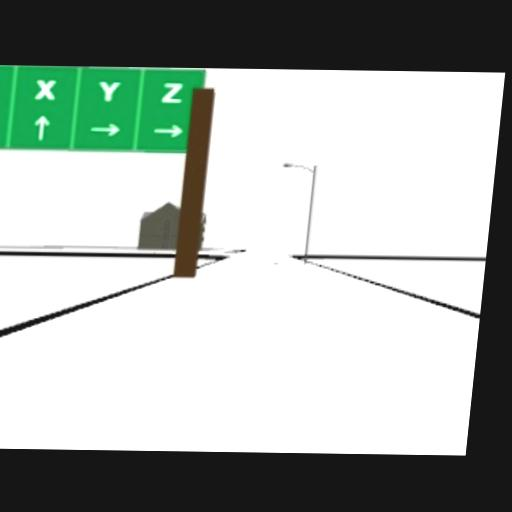Right: (152, 122, 184, 137), (89, 122, 121, 136)
Straight: (33, 114, 51, 138)
X: (33, 77, 57, 98)
Y: (96, 79, 121, 100)
Z: (160, 80, 185, 101)
